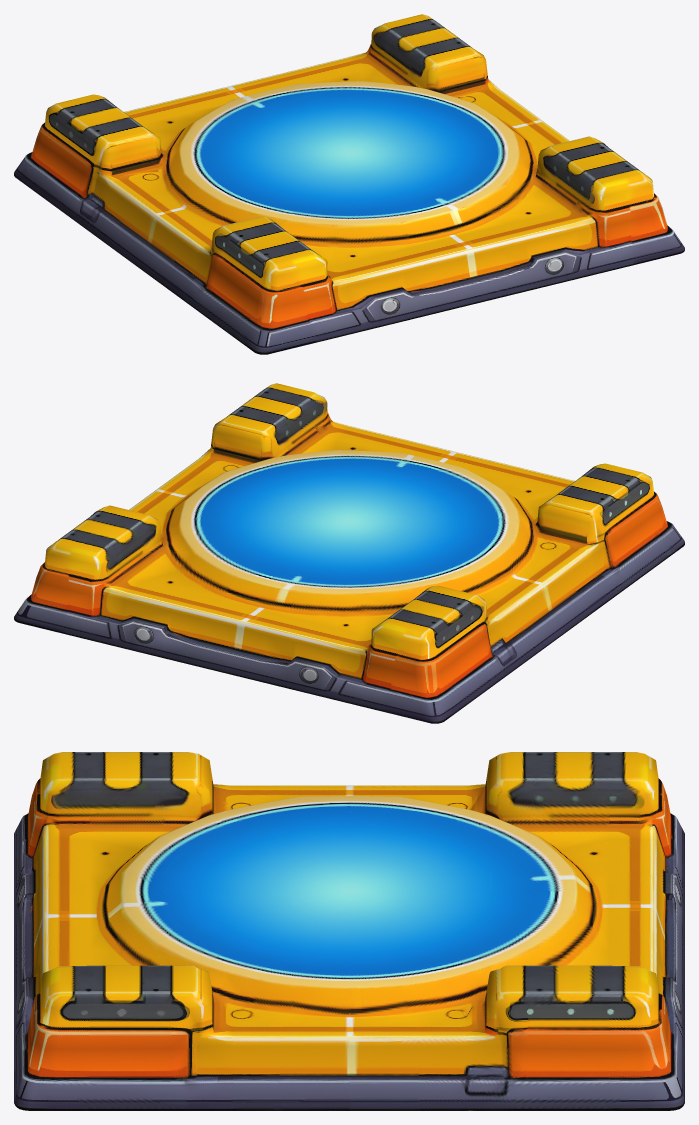
File: Meshy_AI_jumpPad_0320164559_texture.fbx
The picture shows the model from 3 angles, top to bottom: view 1: azimuth 30°, elevation 25°; view 2: azimuth 150°, elevation 25°; view 3: azimuth 270°, elevation 25°; orthographic projection. The views are drawn at different scales.
Visible parts, largest first — view 1: Mesh_0; view 2: Mesh_0; view 3: Mesh_0.
Boxes of the visible parts, x1=… form: Mesh_0: x1=14, y1=14, x2=684, y2=354; Mesh_0: x1=14, y1=383, x2=684, y2=723; Mesh_0: x1=14, y1=752, x2=684, y2=1110.
Size of the model in its own units: 189 by 30.92 by 191.
Materials: 1 (1 with a texture image).
